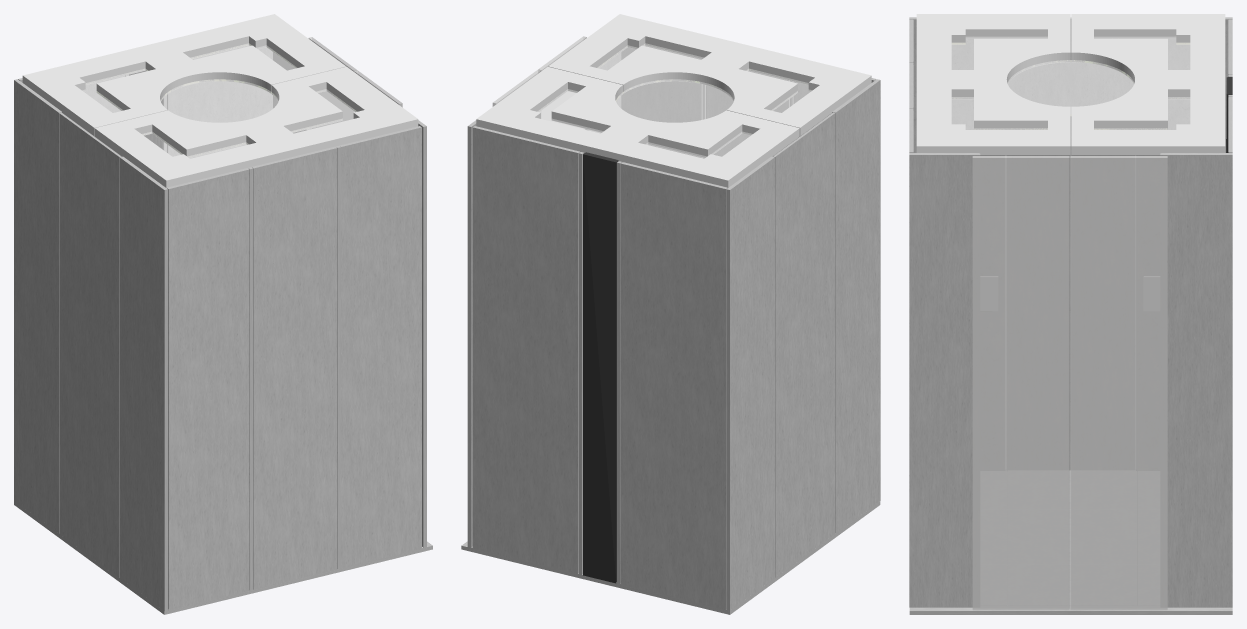
File: elevator.glb
3 renders of one model, left to right at view 1: azimuth 30°, elevation 25°; view 2: azimuth 150°, elevation 25°; view 3: azimuth 270°, elevation 25°, orthographic. The views are drawn at different scales.
Parts seen in each view (by area): view 1: ______001, 001, __________________001, 002; view 2: ______001, 001, Rectangle002, __________________001, 002; view 3: ______001, 001, Floor_Object002, __________________001, 002, ________001.
Boxes of the visible parts, x1,y1,x2,y2 form: ______001: (14,37,426,611); 001: (22,14,418,188); __________________001: (82,43,356,158); 002: (14,501,432,614); ______001: (467,36,880,610); 001: (476,14,871,187); Rectangle002: (583,152,618,583); __________________001: (538,43,811,158); 002: (461,501,880,614); ______001: (909,17,1232,610); 001: (916,14,1225,155); Floor_Object002: (981,470,1159,605); __________________001: (951,37,1190,129); 002: (909,606,1232,614); ________001: (981,276,1159,311).
Size of the model in its own units: 6.04 by 9.26 by 5.87.
Materials: 6 (2 with a texture image).
